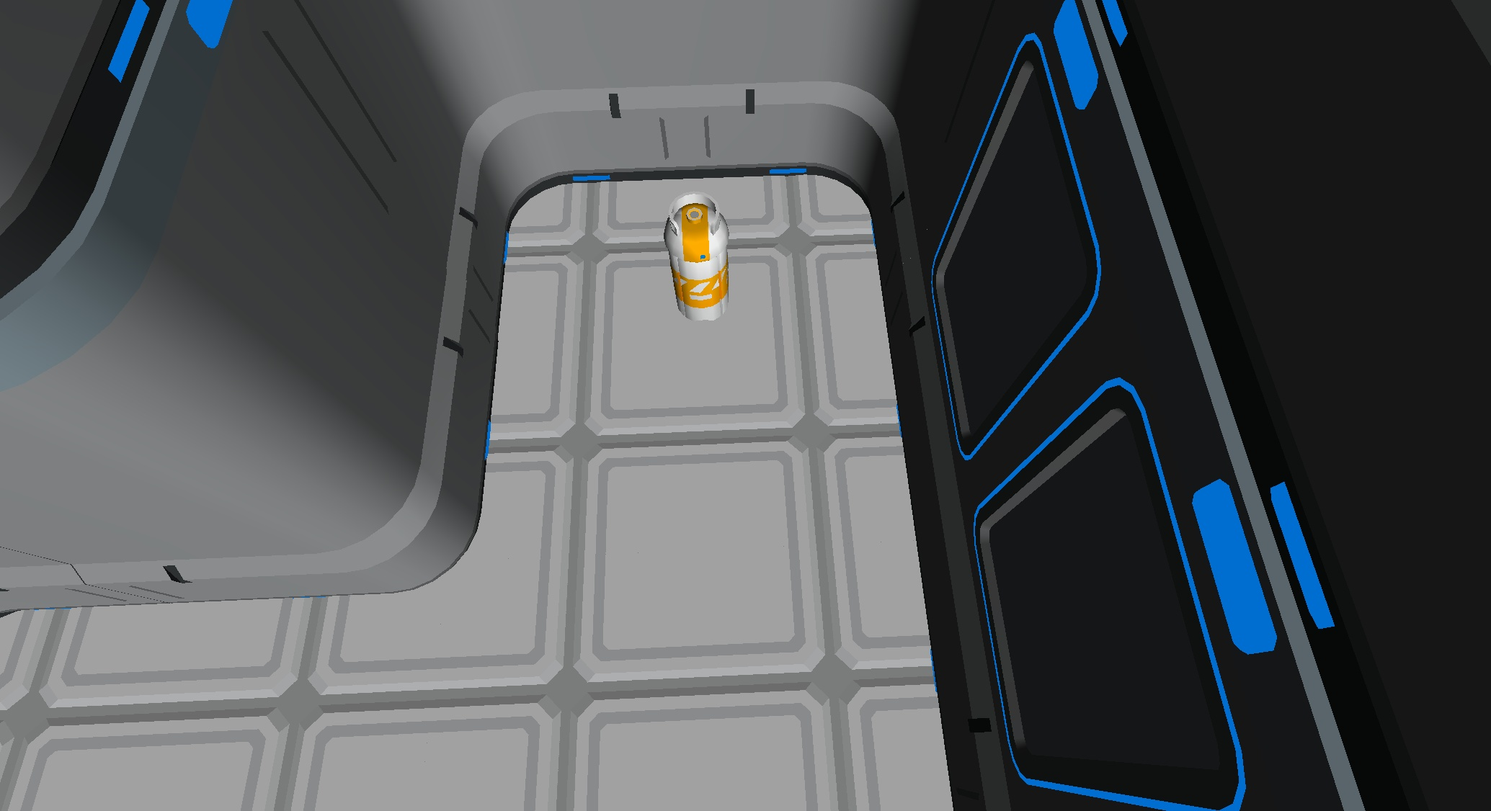yellow_barrel: (665, 194, 729, 321)
